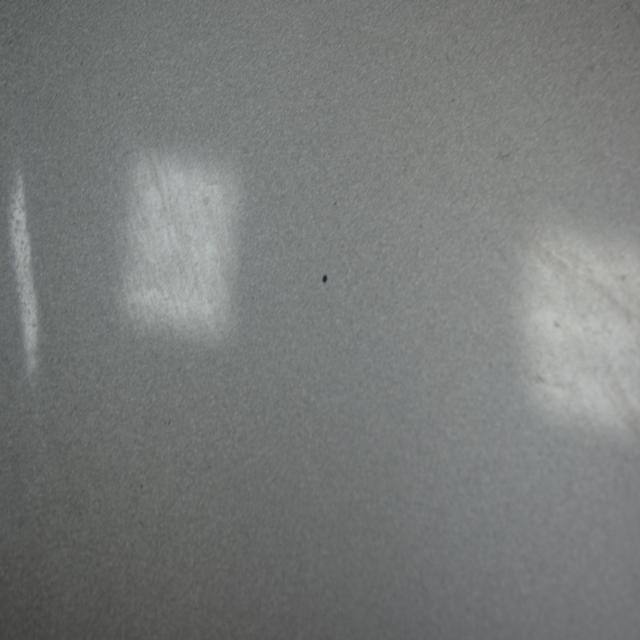dirt: (320, 269, 331, 285)
water marks: (508, 218, 640, 425), (103, 147, 239, 338)
